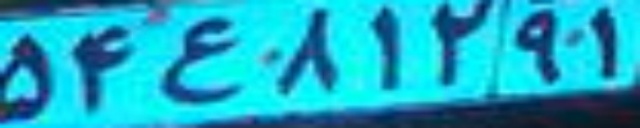1: (366, 5, 407, 91), (589, 5, 617, 78)
2: (430, 0, 489, 86)
4: (71, 23, 133, 110)
5: (1, 31, 55, 122)
8: (276, 8, 340, 94)
9: (515, 8, 563, 84)
ain: (156, 17, 245, 105)
